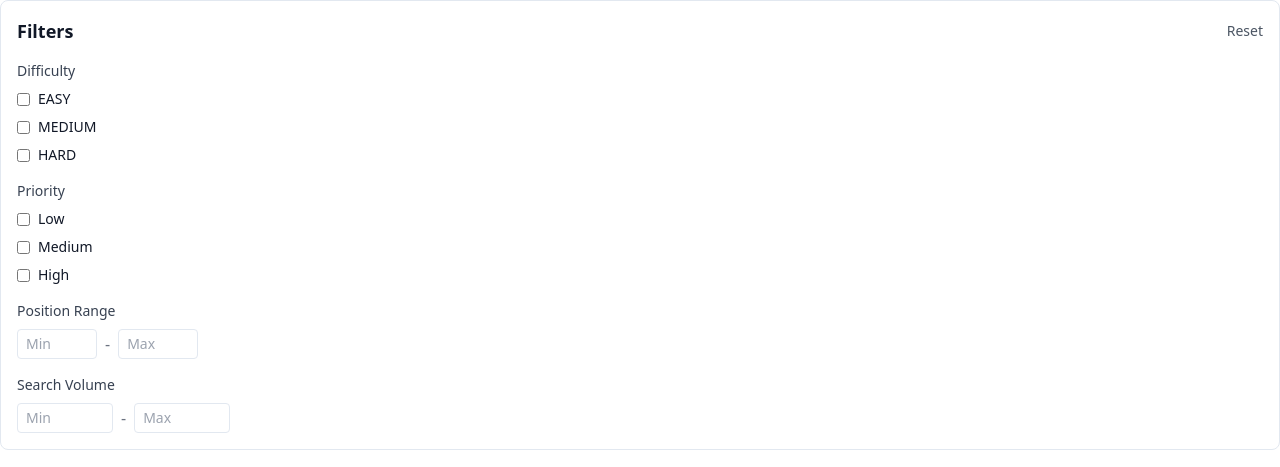
Scenario: FilterPanel Component › Active Filters Display › should show active filter count when filters are applied
This screenshot has width=1280, height=467.
Click the checkbox with test id "difficulty-easy". click: (24, 99)
box: [17,92,30,106]
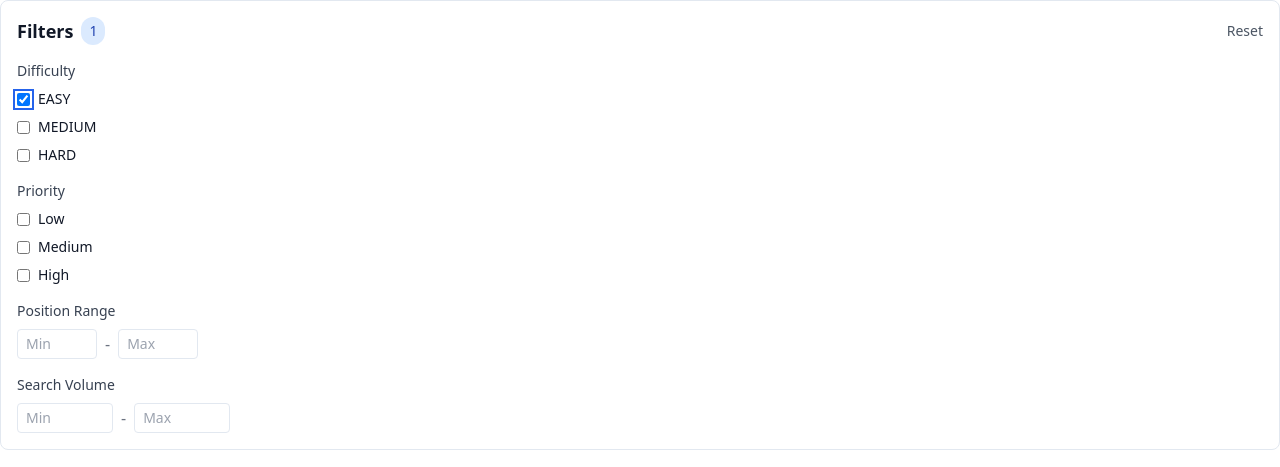
Click the checkbox with test id "priority-high". click: (24, 275)
box: [17,268,30,282]
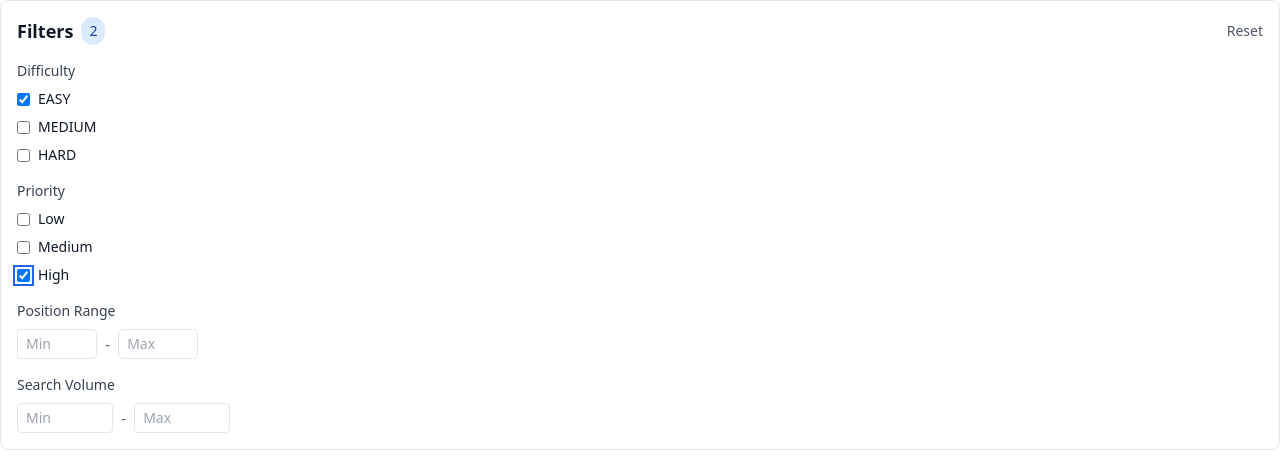
expect the text with test id "active-filters-count" reads "2": met, box [89,21,97,40]
